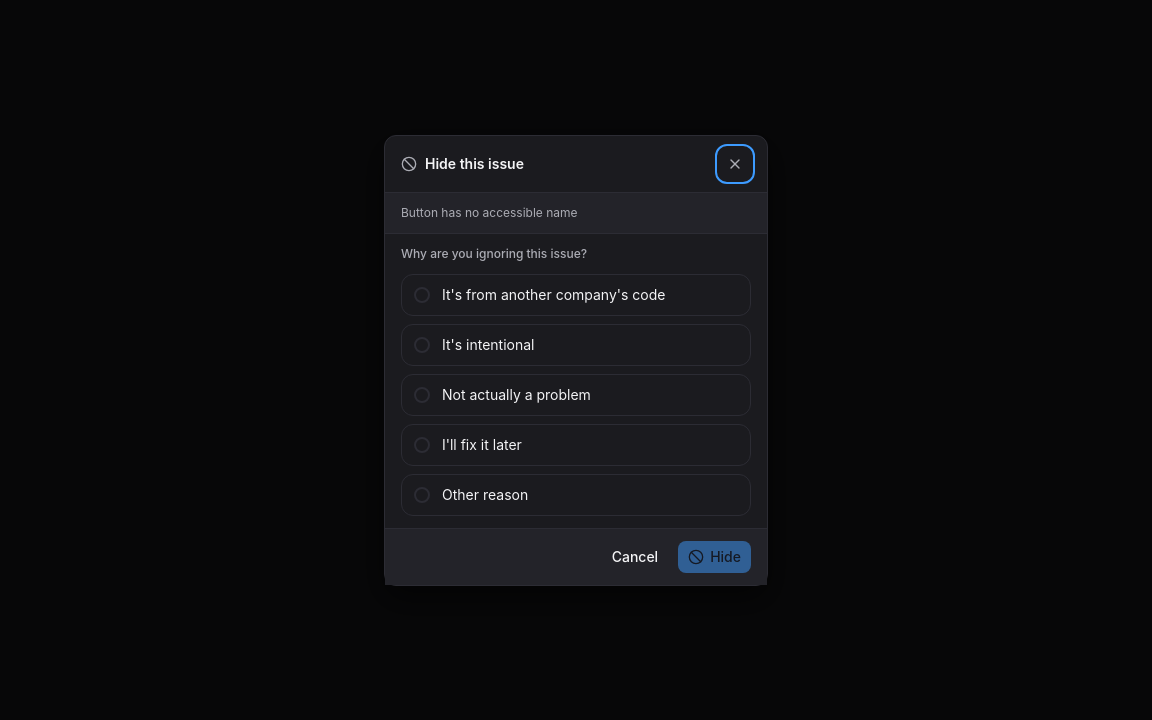
IgnoreIssueModal › Reason radio group › disables the submit button until a reason is chosen
Check: the button "Hide" is disabled, box [678,540,751,572]
Step 1. Click the radio button labelled "Not actually a problem" → (576, 394), box [401,374,751,416]
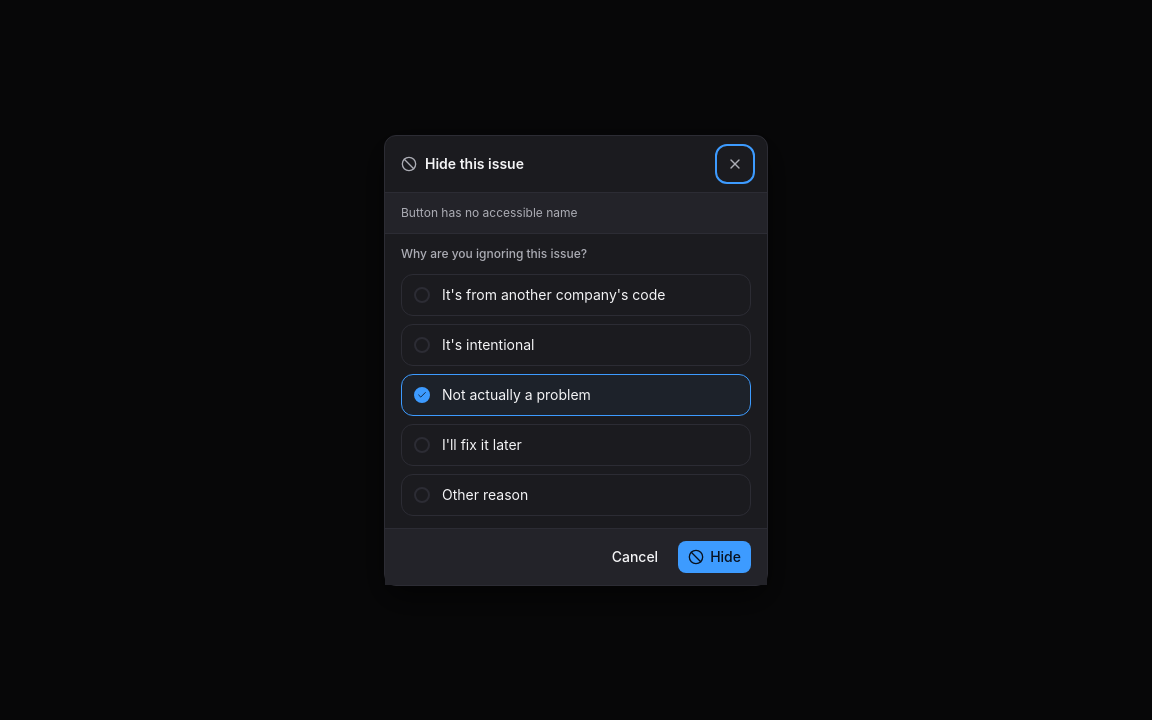
Check: the button "Hide" is enabled, box [678,540,751,572]
